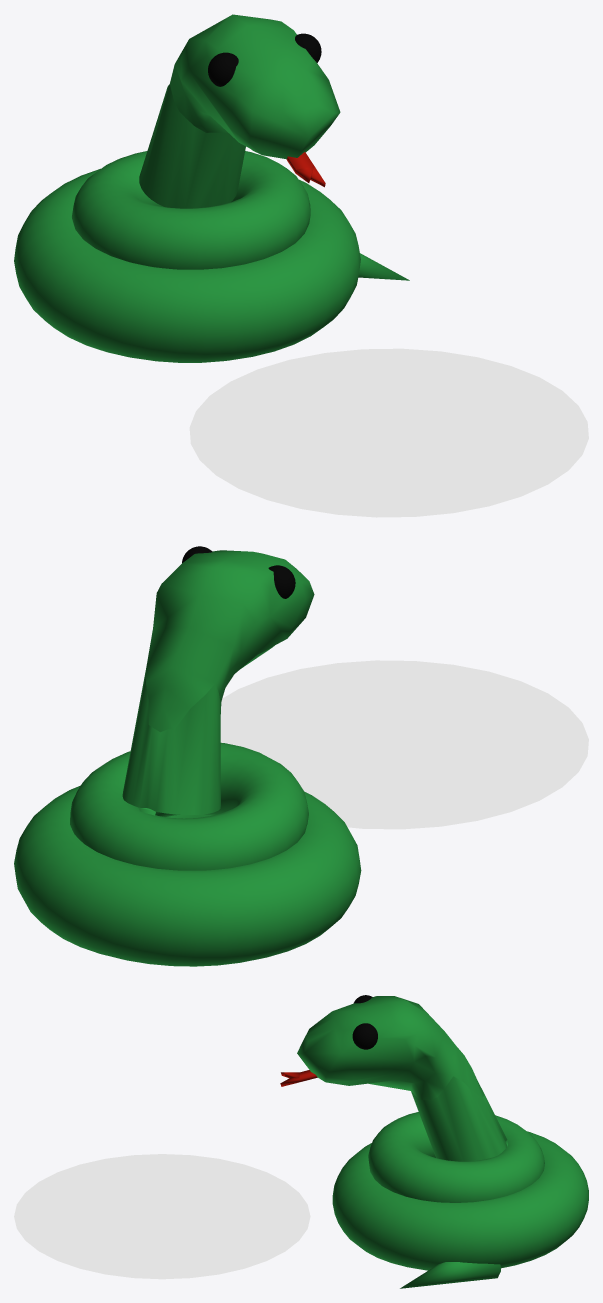
Rendered from snake - Copy.glb.
3 views of the same model, one above another, from view 1: azimuth 30°, elevation 25°; view 2: azimuth 150°, elevation 25°; view 3: azimuth 270°, elevation 25° (orthographic). The views are drawn at different scales.
Visible parts, largest first — view 1: snek; view 2: snek; view 3: snek.
Part boxes in pixels (x1=…): snek: x1=14, y1=14, x2=588, y2=517; snek: x1=14, y1=546, x2=588, y2=966; snek: x1=14, y1=995, x2=588, y2=1288.
Size of the model in its own units: 10.23 by 8.89 by 19.39.
1 material, 1 textured.
